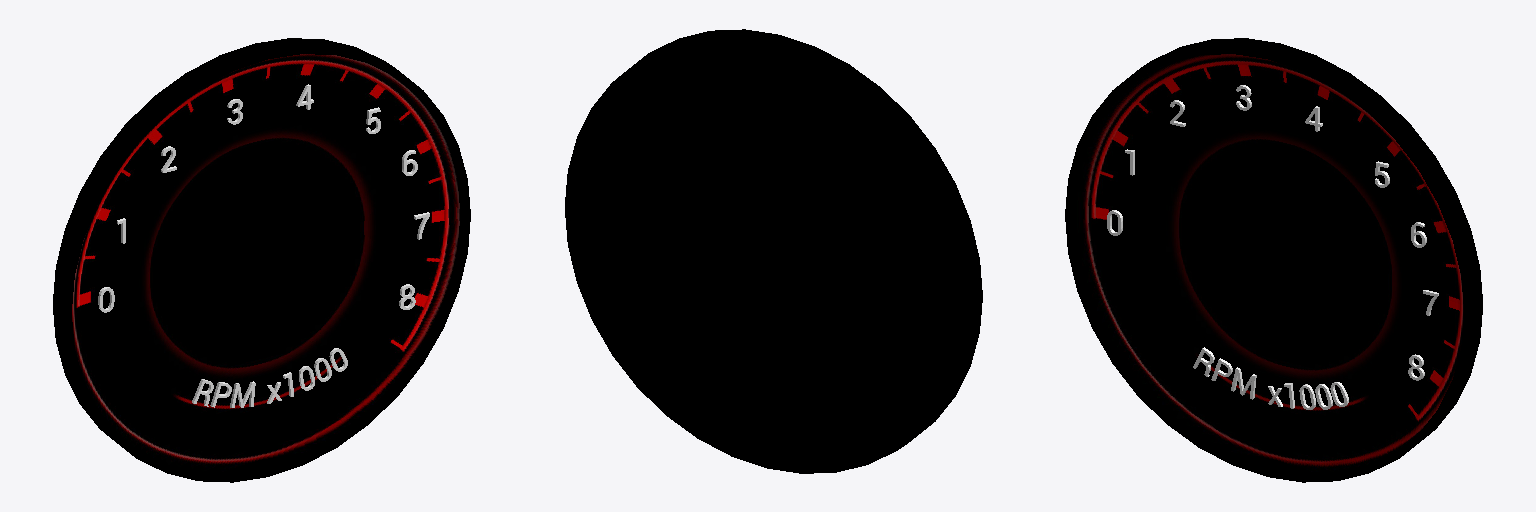
3 views of the same model, side by side, from view 1: azimuth 30°, elevation 25°; view 2: azimuth 150°, elevation 25°; view 3: azimuth 330°, elevation 25° (orthographic).
Parts seen in each view (by area): view 1: RPM; view 2: RPM; view 3: RPM.
Boxes of the visible parts, box(x1,y1,x2,y2) form: RPM: box(53, 38, 470, 482); RPM: box(565, 29, 982, 473); RPM: box(1065, 38, 1482, 482).
Size of the model in its own units: 125 by 125 by 13.47.
2 materials, 2 textured.